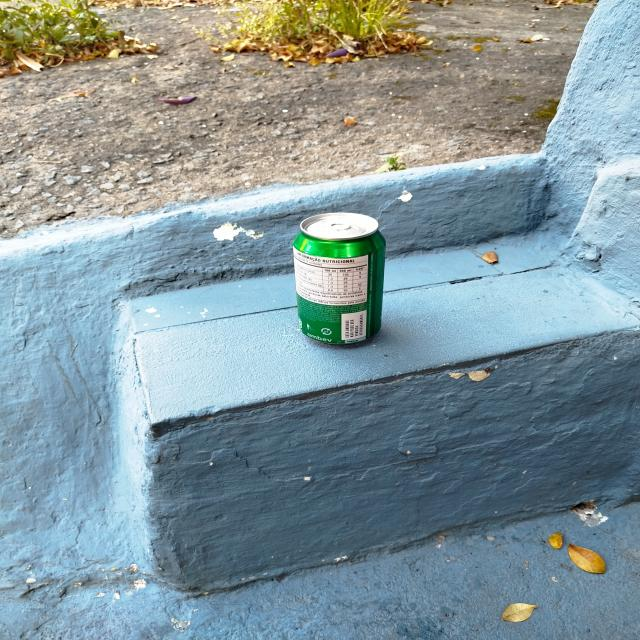Guarana: (290, 213, 385, 344)
